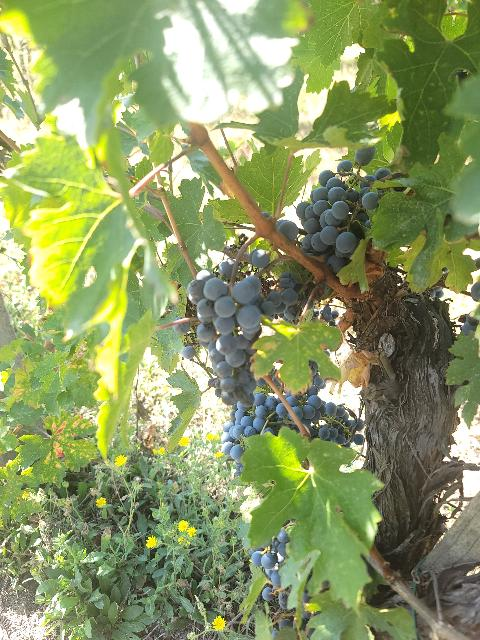grapes: (296, 146, 391, 274), (186, 271, 264, 405), (221, 392, 278, 462)
